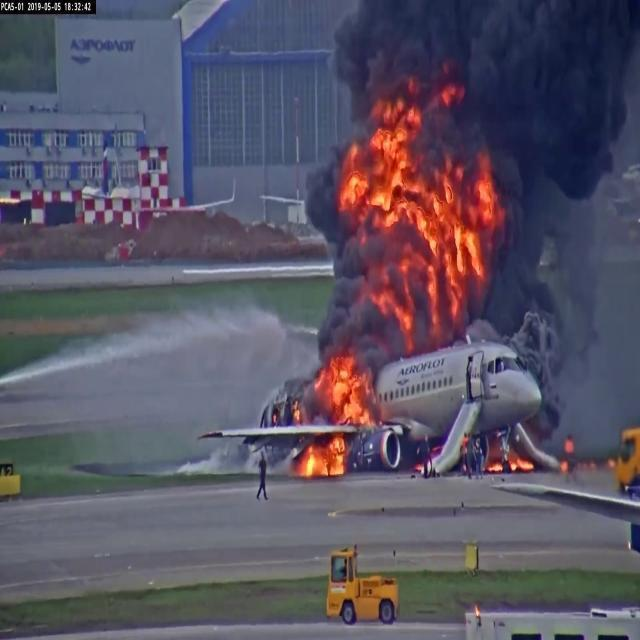Fire: (365, 132, 432, 223), (327, 362, 362, 419), (306, 442, 343, 482)
Smoke: (466, 0, 639, 197)
